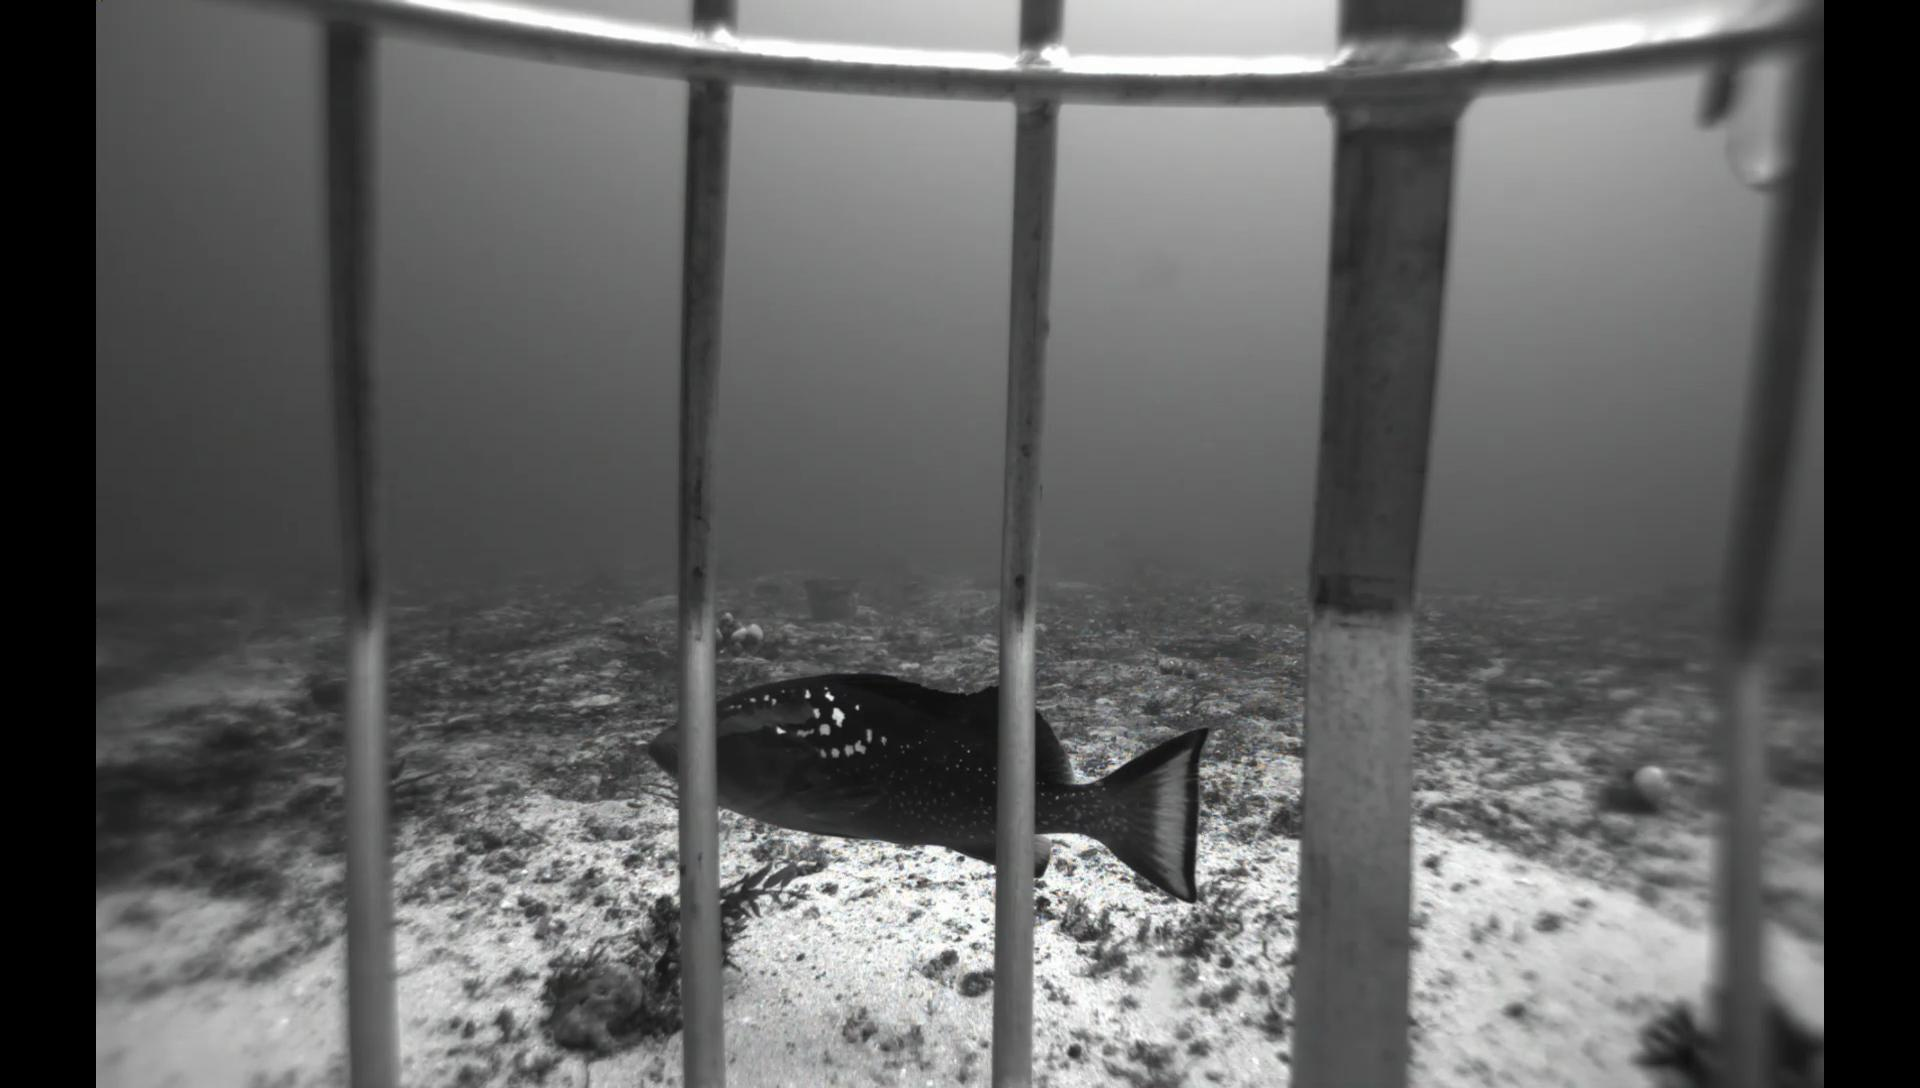CHAETODONOCELLATUS-170260307: (1466, 587, 1505, 619), (1412, 587, 1427, 615)
EPINEPHELUSMORIO-170021211: (637, 666, 1232, 926)
PRISTIGENYSALTA-170050401: (298, 671, 348, 713)
